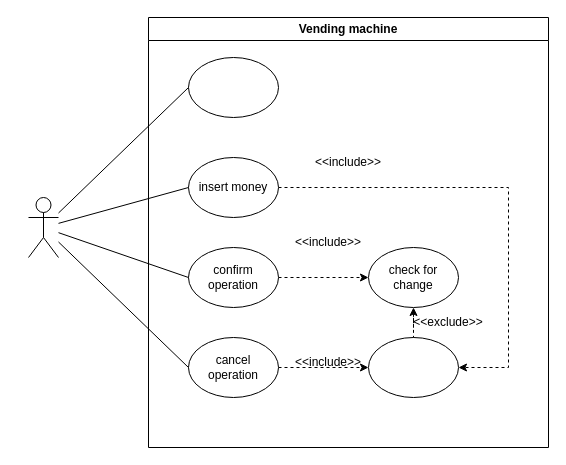
Some shapes in this 566 by 465 pixel diagram are drawn without their labels. Each missing label, with the centre of its shape:
"choose product" belongs at (x=233, y=87).
"Customer" belongs at (x=43, y=227).
"return money" belongs at (x=413, y=367).
